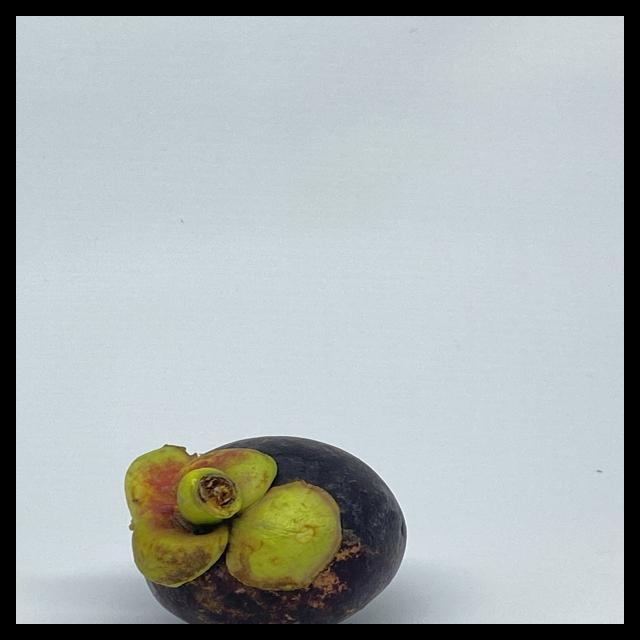mangosteen: (109, 416, 434, 624)
